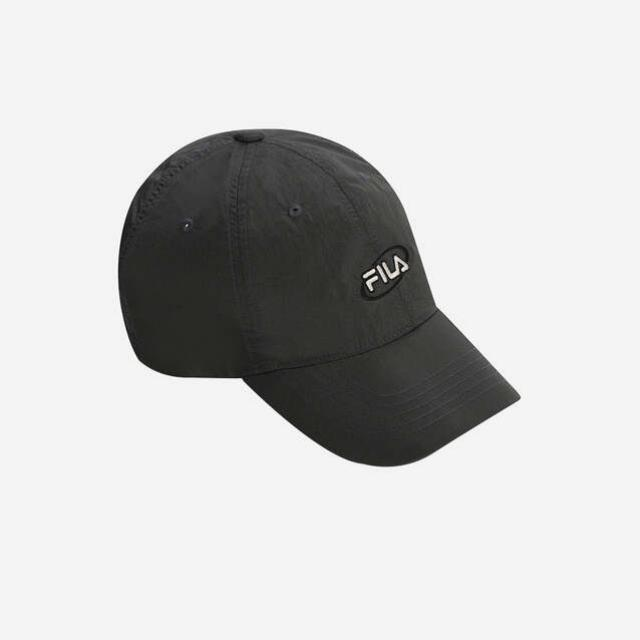Nonhelmet: (113, 123, 523, 470)
